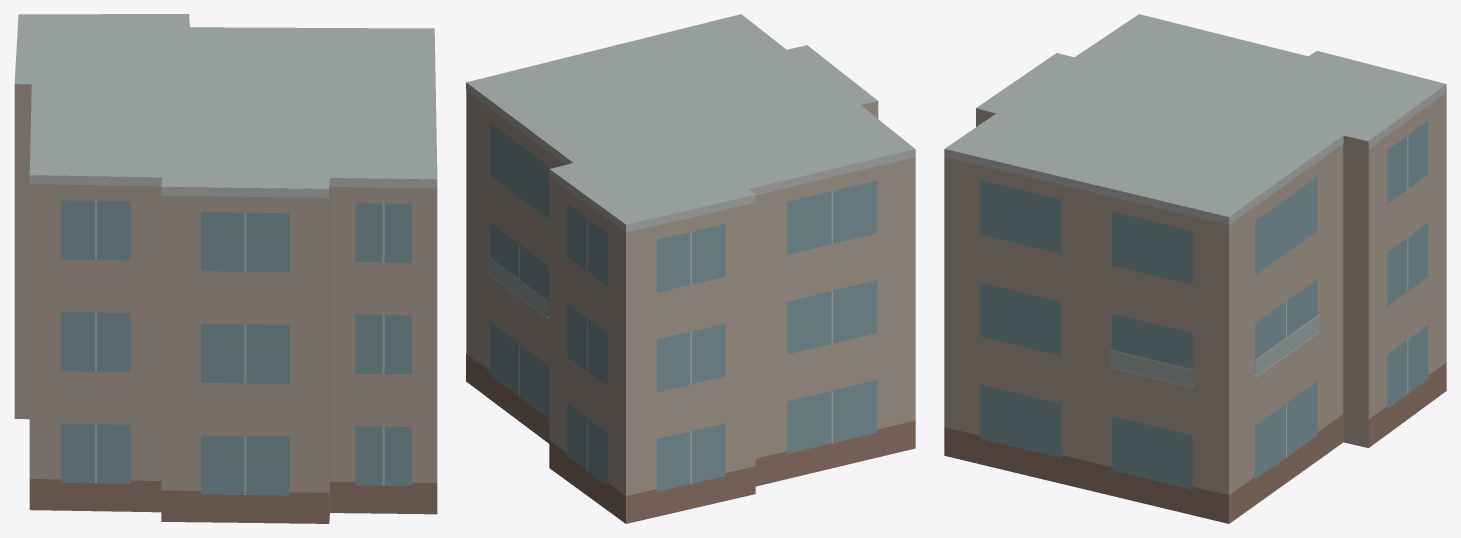
File: survey-upis-32949041.glb
3 views of the same model, side by side, from view 1: azimuth 30°, elevation 25°; view 2: azimuth 150°, elevation 25°; view 3: azimuth 270°, elevation 25° (orthographic). The views are drawn at different scales.
Visible parts, largest first — view 1: survey-upis-32949041.tmp; view 2: survey-upis-32949041.tmp; view 3: survey-upis-32949041.tmp.
Part boxes in pixels (box(x1,y1,x2,y2)): survey-upis-32949041.tmp: box(14, 14, 437, 523); survey-upis-32949041.tmp: box(466, 14, 915, 523); survey-upis-32949041.tmp: box(944, 14, 1446, 523).
Size of the model in its own units: 12.99 by 9.15 by 13.58.
